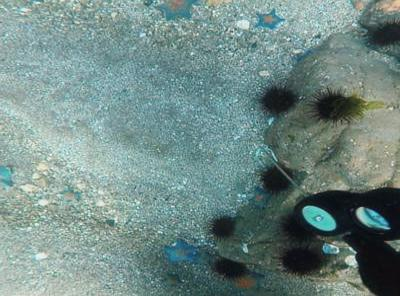urchin: (314, 88, 366, 125), (282, 245, 322, 279), (260, 81, 300, 114), (259, 162, 293, 193), (216, 255, 250, 281), (210, 213, 238, 240), (370, 21, 400, 45)
